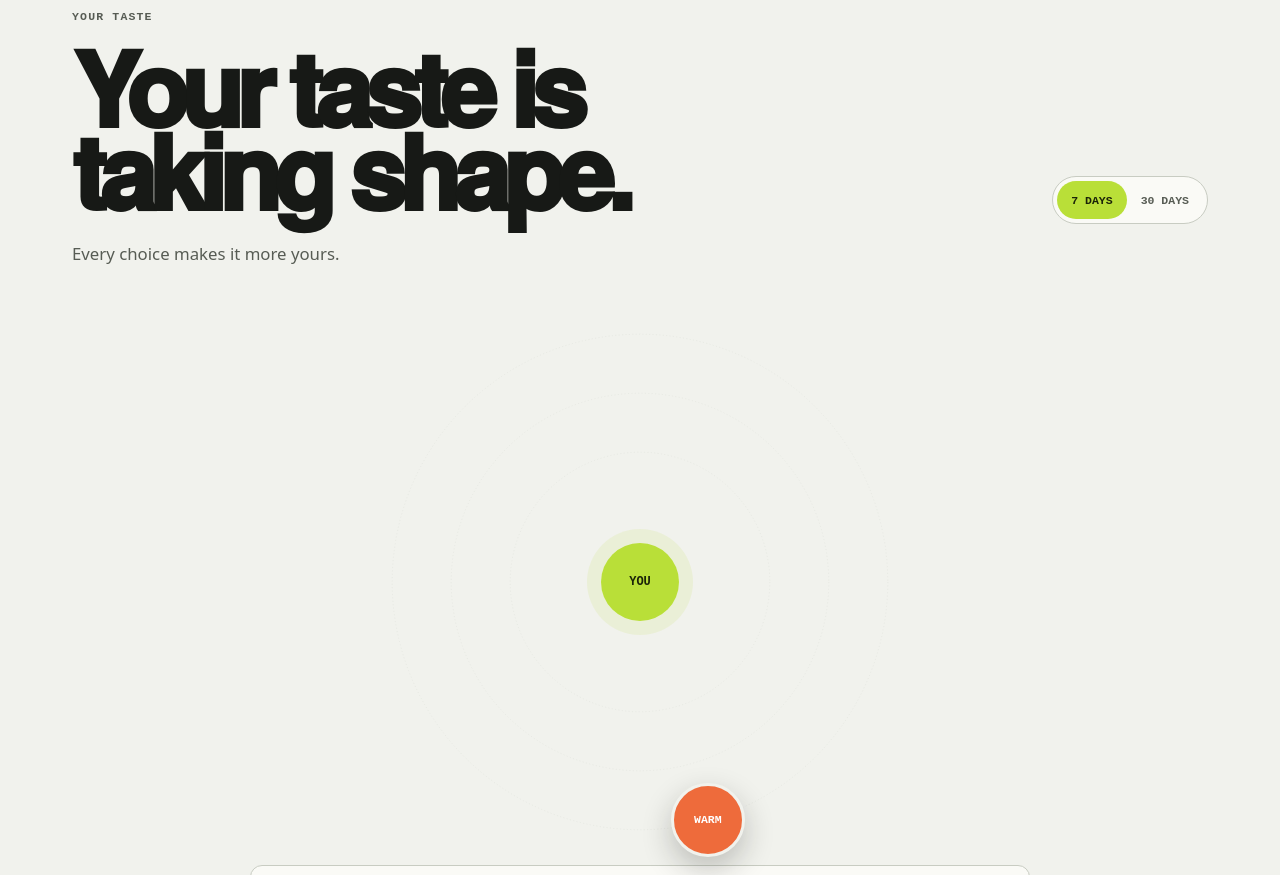
Test: focus persists until YOU returns to natural rotation
Click the button with aria-label "warm, 1 signal". click: (708,820)
box: [671,784,745,858]
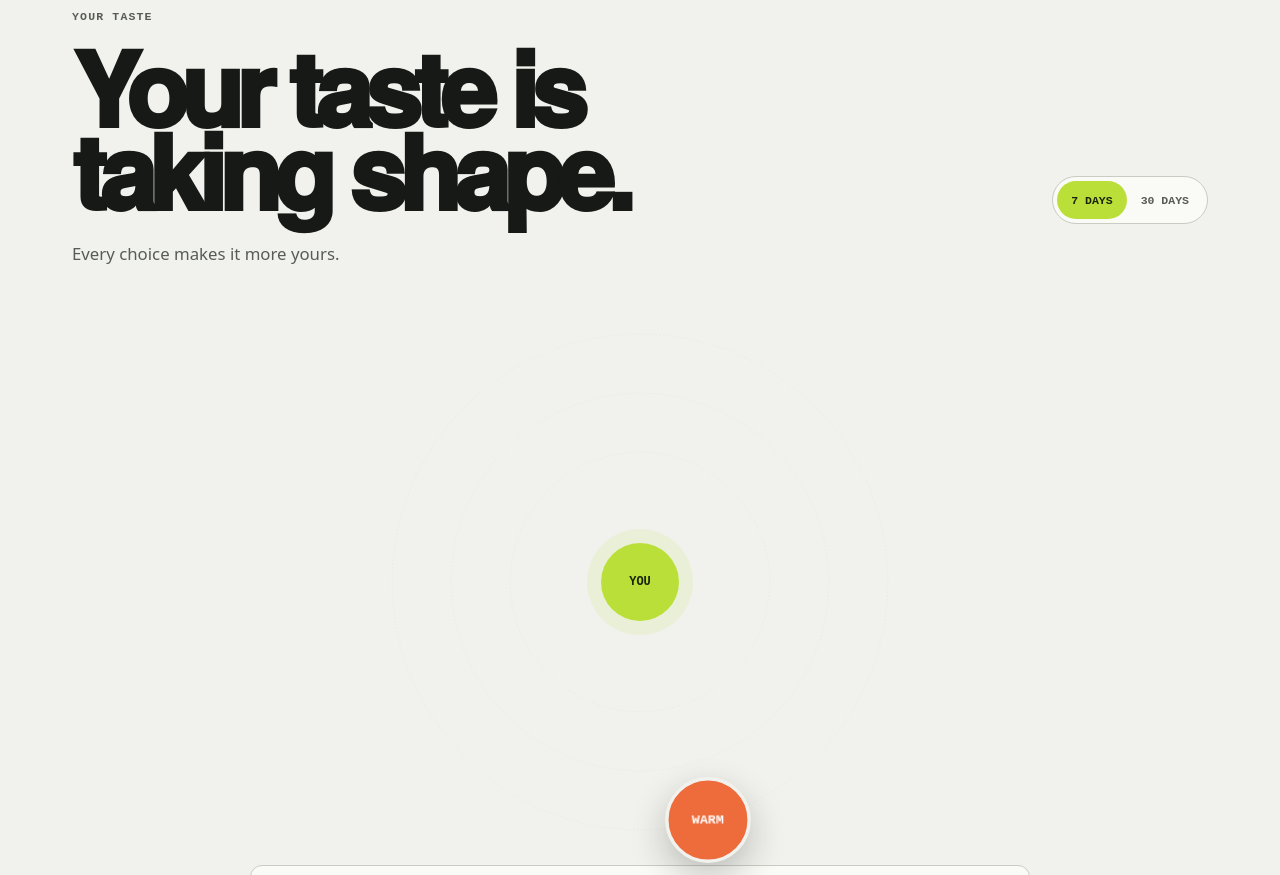
Result: the button with aria-label "warm, 1 signal" is pressed at [665,778,751,863]
Result: the button with aria-label "warm, 1 signal" has attribute data-focus-target="top" at [665,778,751,863]
Click the button "YOU". click: (640,582)
box: [601,543,679,621]
(page scrolled)
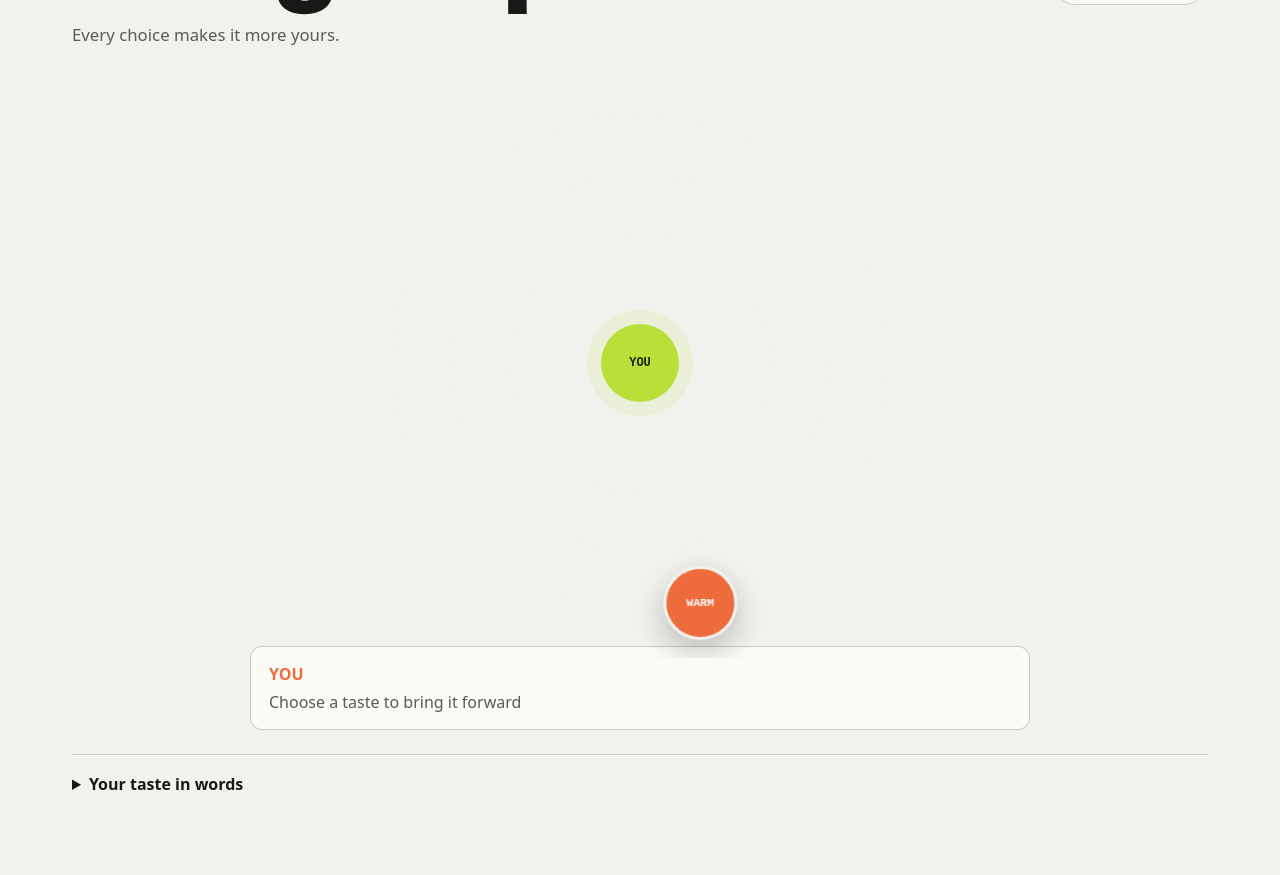
Result: the text "Choose a taste to bring it forward" is shown at [269,691,521,713]
